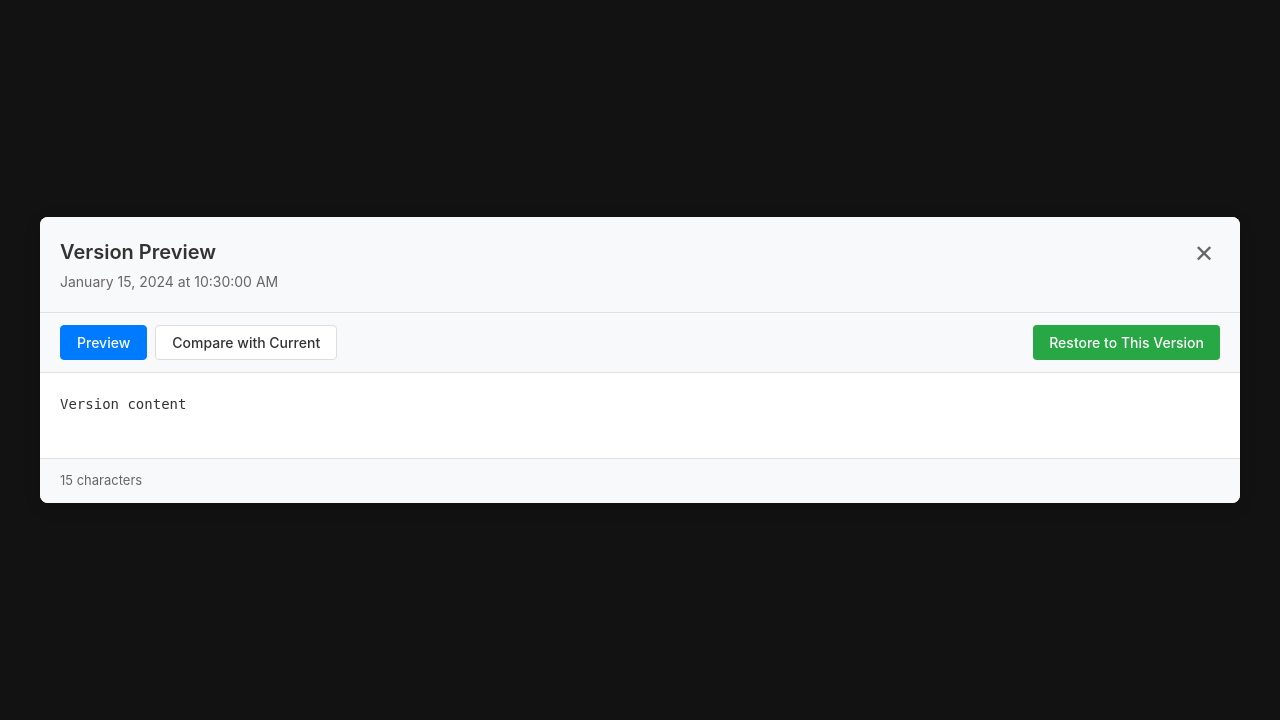
Test: VersionPreview › cancels restore when cancel button is clicked
Click restore button
Click the button "Restore to This Version". click: (1127, 343)
box: [1033, 325, 1220, 360]
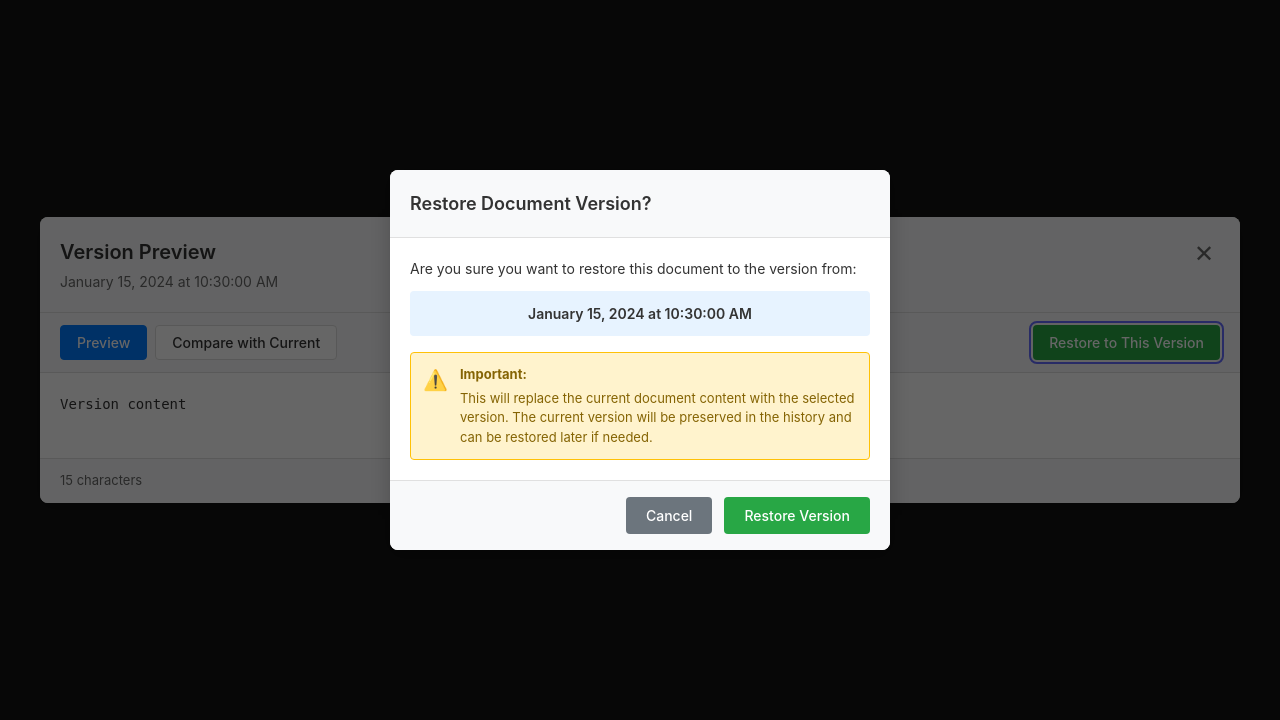
Check: the heading "Restore Document Version?" is shown, box [410, 193, 652, 214]
Click cancel button
Click the button "Cancel". click: (669, 516)
box: [626, 497, 712, 534]
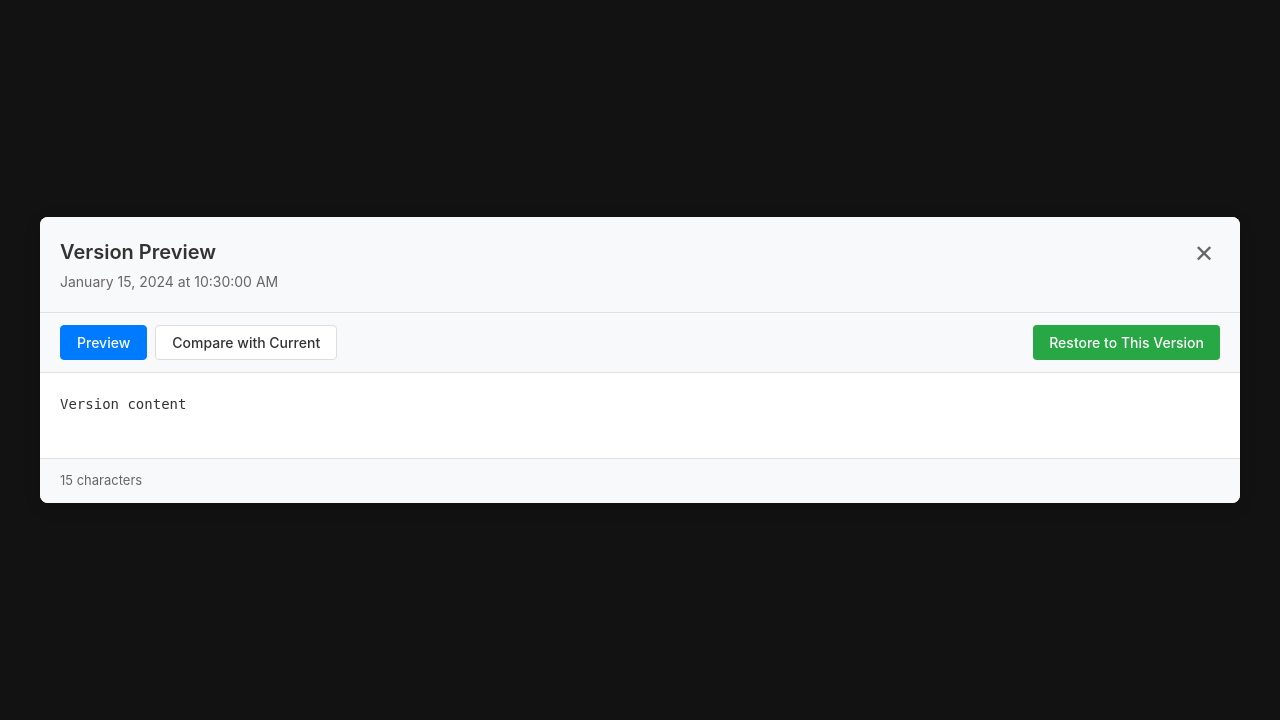
Check: the heading "Restore Document Version?" is gone
